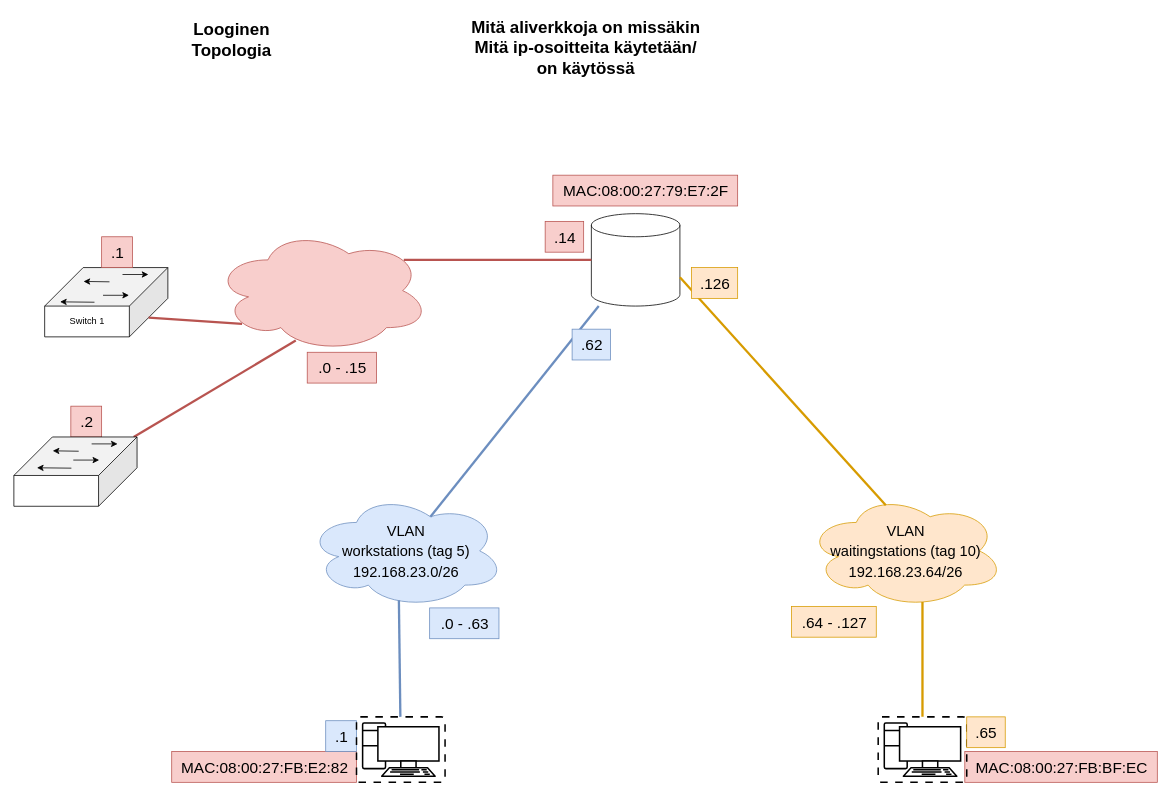
The diagram is 1170 pixels wide and 796 high, and some of its shapes have lost their labels. The box of each missing label's shape, as (x1, y1, x2, y2) in pixels:
Lubuntu1: (355, 716, 445, 783)
Lubuntu2: (877, 716, 967, 783)
Switch 2: (13, 436, 137, 506)
VLAN network_devices (tag 15) 10.5.51.0/28: (213, 228, 430, 352)
VYOS 1: (591, 213, 680, 306)
